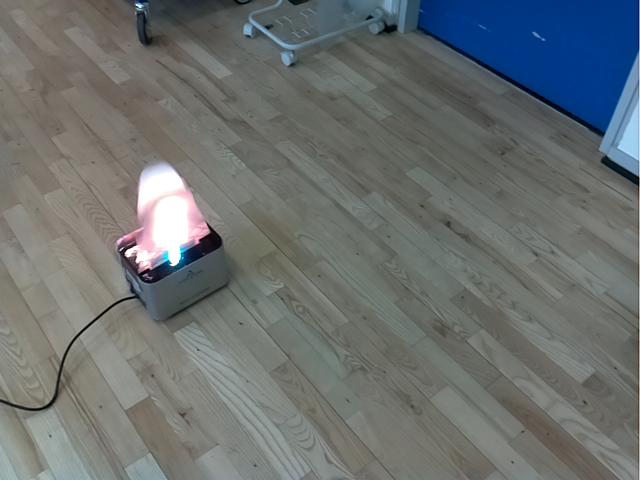fire: (135, 162, 211, 273)
